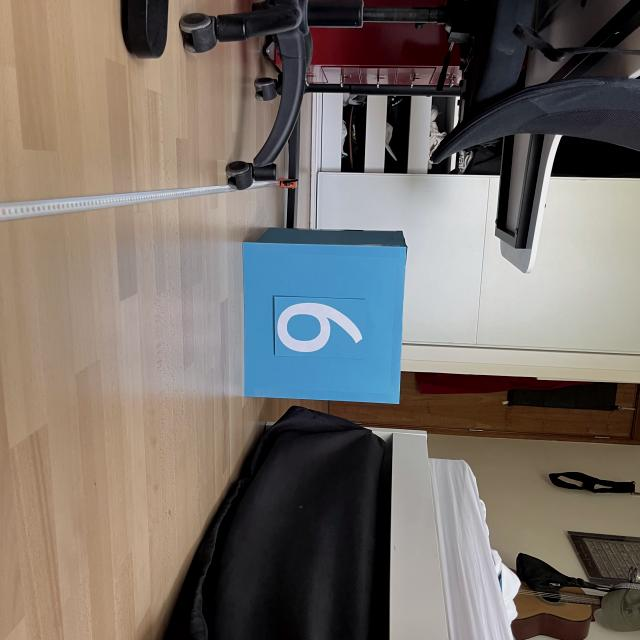box: (238, 224, 409, 406)
